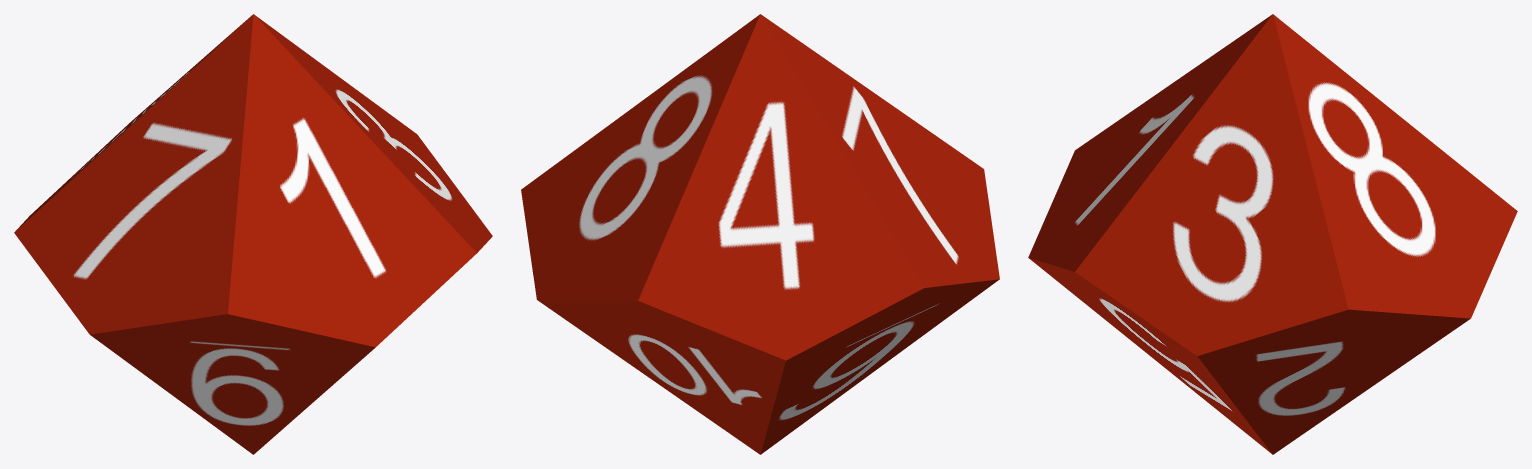
Rendered from D10-beforetecture.dae.
3 views of the same model, side by side, from view 1: azimuth 30°, elevation 25°; view 2: azimuth 150°, elevation 25°; view 3: azimuth 270°, elevation 25° (orthographic).
Parts seen in each view (by area): view 1: Cone; view 2: Cone; view 3: Cone.
Part boxes in pixels (bbox=[...]): Cone: bbox=[14, 14, 492, 454]; Cone: bbox=[521, 14, 999, 454]; Cone: bbox=[1028, 14, 1517, 454].
Bounding box in the file's own units: 1.91 × 2 × 2.01.
Materials: 1 (1 with a texture image).
